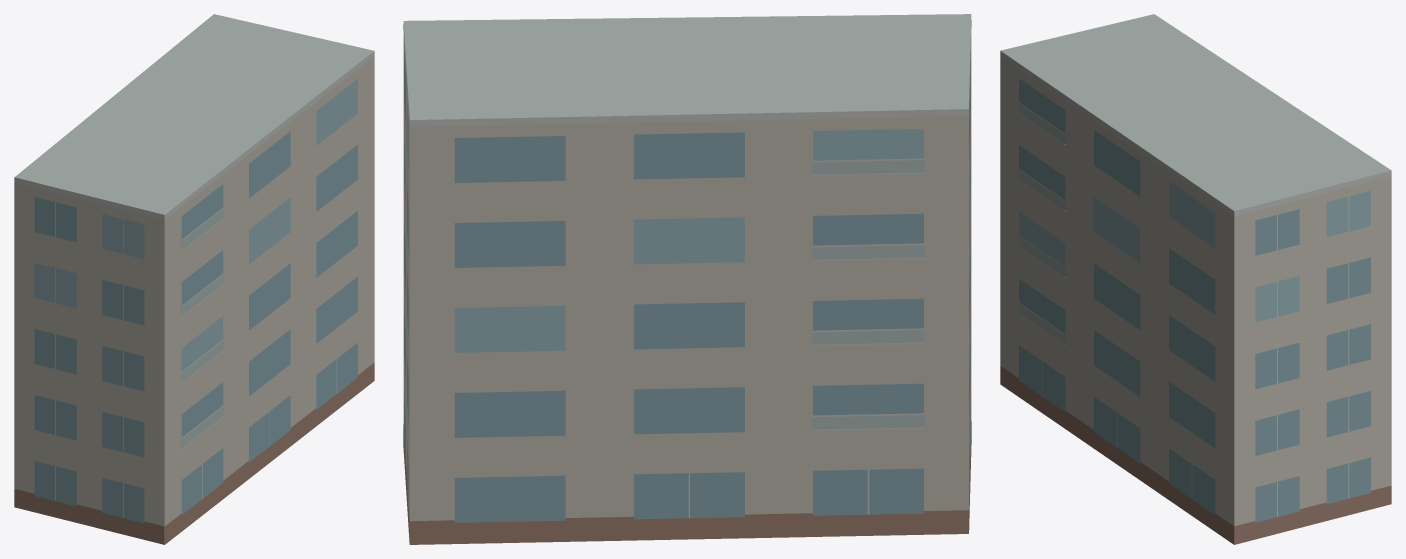
Rendered from survey-upis-32591154.glb.
The picture shows the model from 3 angles, left to right: view 1: azimuth 30°, elevation 25°; view 2: azimuth 150°, elevation 25°; view 3: azimuth 270°, elevation 25°; orthographic projection. The views are drawn at different scales.
Visible parts, largest first — view 1: survey-upis-32591154.tmp; view 2: survey-upis-32591154.tmp; view 3: survey-upis-32591154.tmp.
Part boxes in pixels (bbox=[...]): survey-upis-32591154.tmp: bbox=[14, 14, 374, 544]; survey-upis-32591154.tmp: bbox=[403, 14, 971, 544]; survey-upis-32591154.tmp: bbox=[1000, 14, 1391, 544].
Bounding box in the file's own units: 19.02 × 15 × 15.96.
